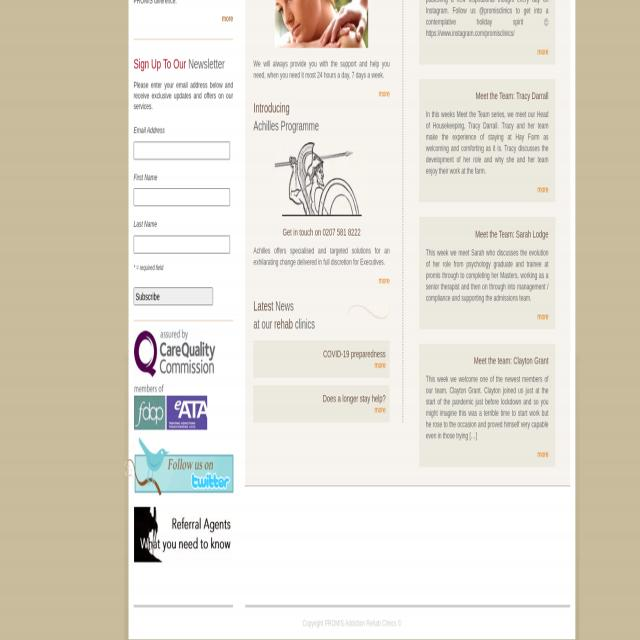button: (275, 142, 368, 216), (131, 439, 240, 499), (134, 506, 234, 563), (275, 0, 368, 48), (134, 329, 215, 378), (133, 384, 207, 430)
field: (134, 142, 230, 160), (134, 188, 230, 206), (134, 236, 230, 253), (133, 288, 213, 306)
